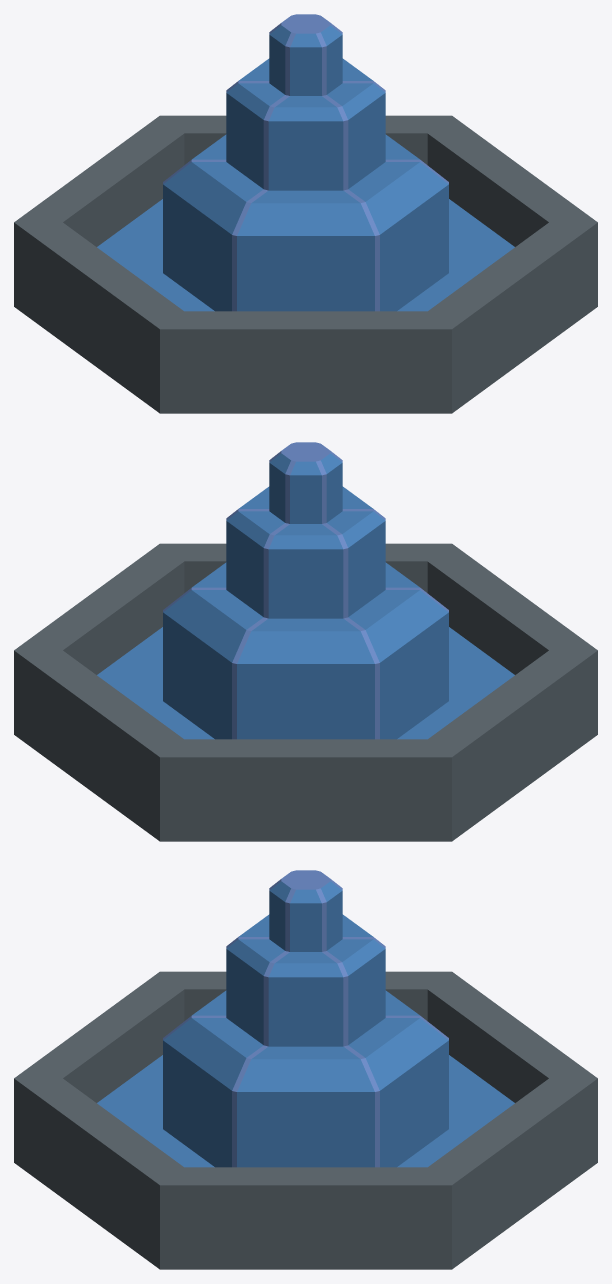
The model's file is Fountain_1.fbx.
3 renders of one model, top to bottom at view 1: azimuth 30°, elevation 25°; view 2: azimuth 150°, elevation 25°; view 3: azimuth 270°, elevation 25°, orthographic.
Parts seen in each view (by area): view 1: Fountain_1; view 2: Fountain_1; view 3: Fountain_1.
Part boxes in pixels (x1,y1,x2,y2): Fountain_1: (14, 14, 597, 413); Fountain_1: (14, 442, 597, 841); Fountain_1: (14, 870, 597, 1269).
Bounding box in the file's own units: 185 × 114 × 214.
